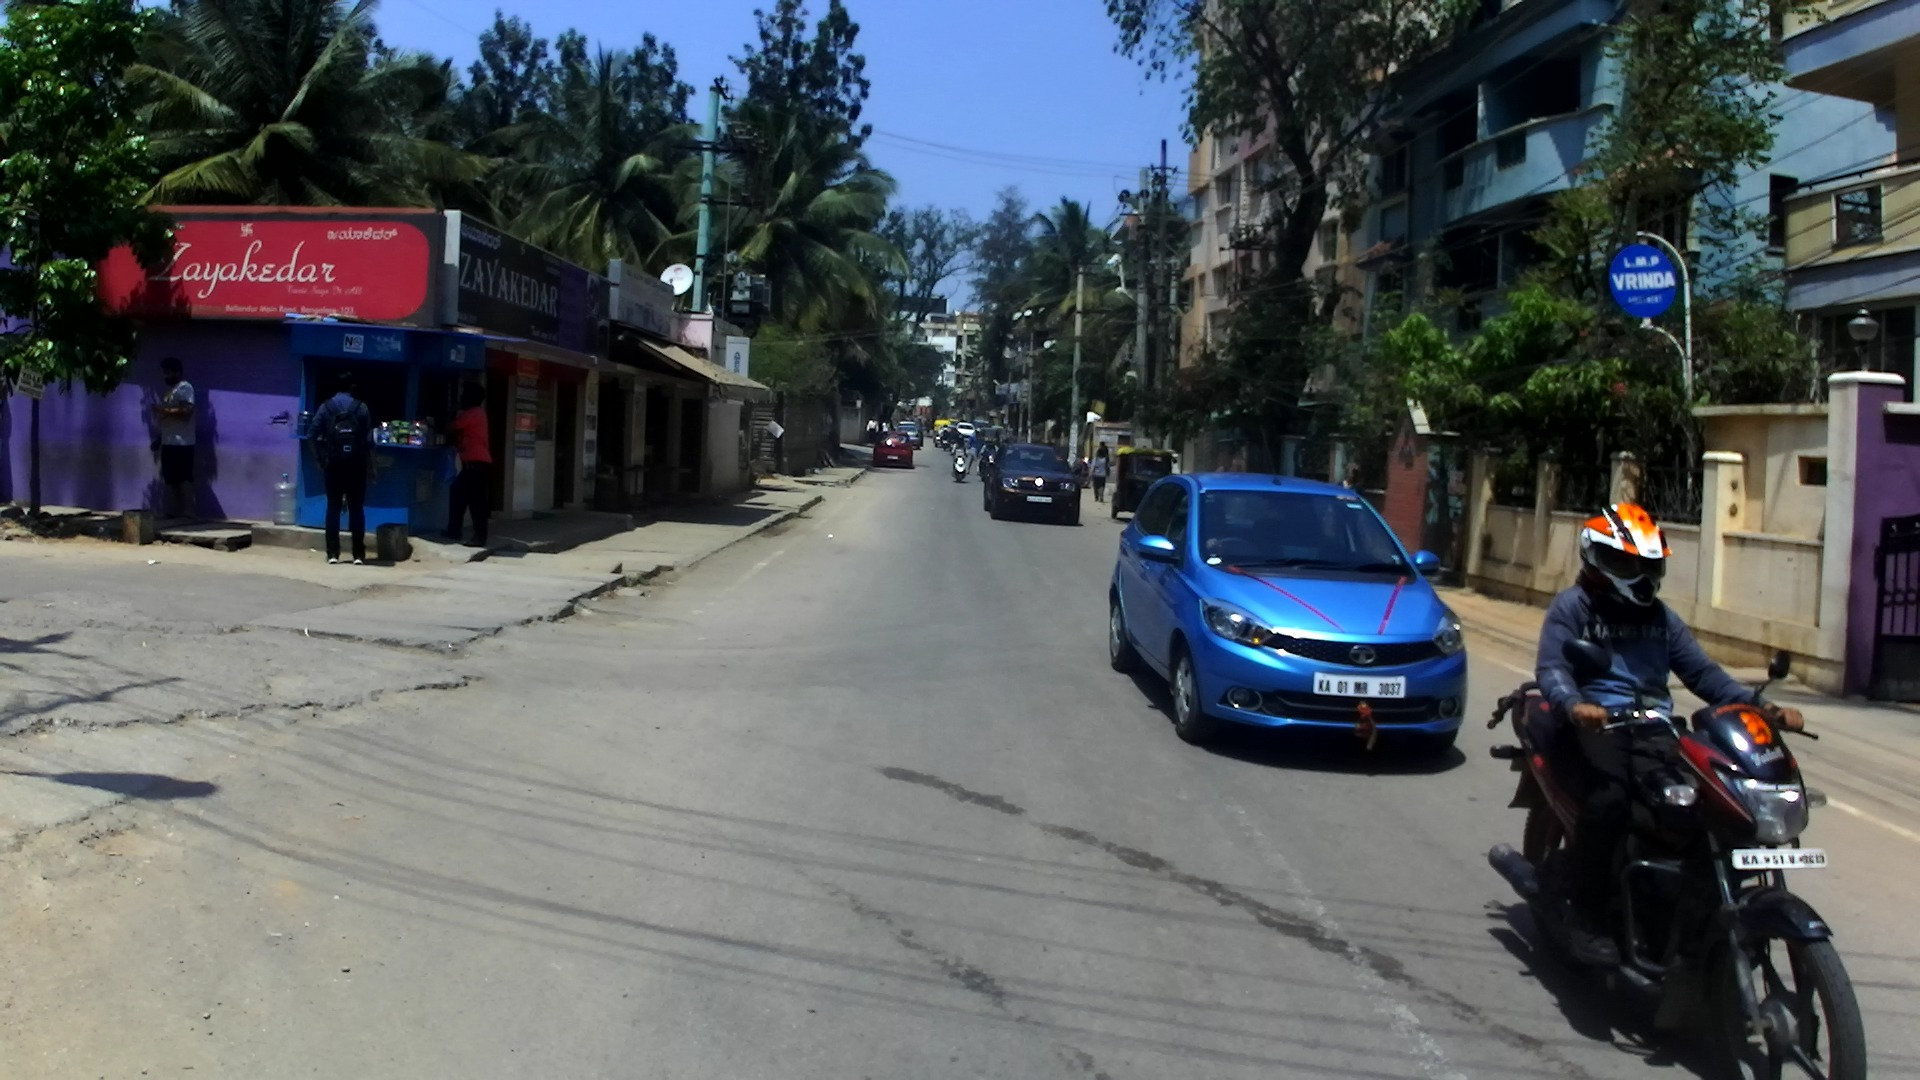autorickshaw: (1111, 447, 1177, 519), (978, 427, 1002, 452), (932, 419, 950, 441)
car: (1107, 472, 1474, 761), (984, 445, 1081, 524), (872, 432, 913, 470), (897, 424, 922, 447), (957, 421, 975, 443), (932, 430, 945, 450), (898, 420, 921, 426)
motorcycle: (1488, 649, 1872, 1080), (1070, 452, 1090, 487), (951, 452, 968, 482), (978, 450, 995, 480), (940, 438, 950, 452), (1000, 435, 1009, 443)
person: (308, 365, 373, 566), (444, 380, 496, 544), (151, 353, 198, 523), (1092, 446, 1108, 503), (967, 426, 982, 477), (1339, 463, 1361, 490), (865, 415, 878, 446), (1100, 442, 1110, 476), (881, 418, 890, 431), (925, 419, 931, 434)
rider: (1537, 505, 1805, 1006), (980, 438, 1000, 471), (951, 435, 968, 470), (940, 424, 951, 440), (999, 424, 1008, 436), (918, 417, 923, 428)
vehicle fallback: (971, 411, 992, 428), (950, 420, 960, 427)
